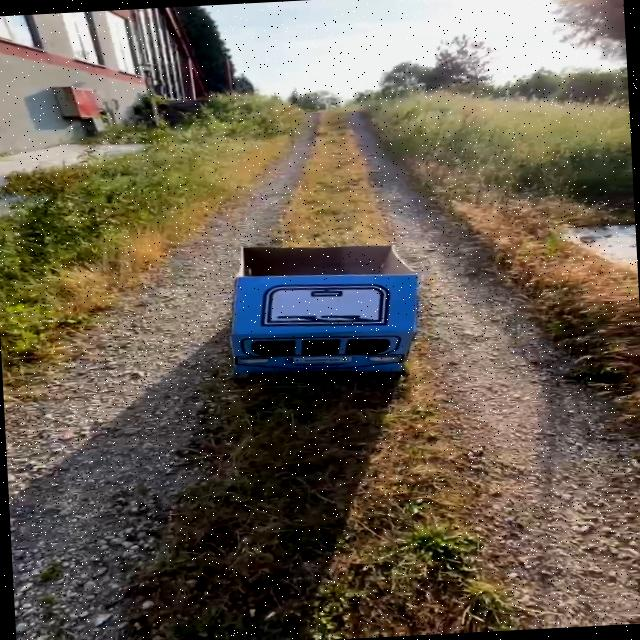blue_car: (196, 213, 454, 410)
